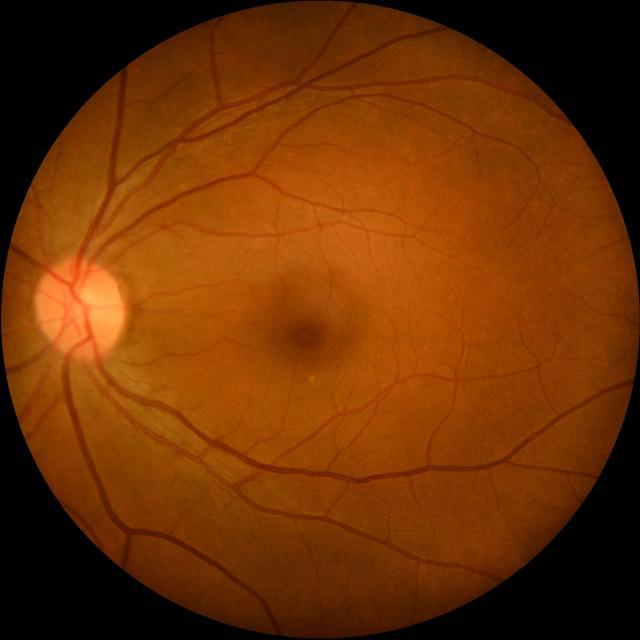OC: (64, 286, 102, 324)
OD: (36, 255, 124, 358)
